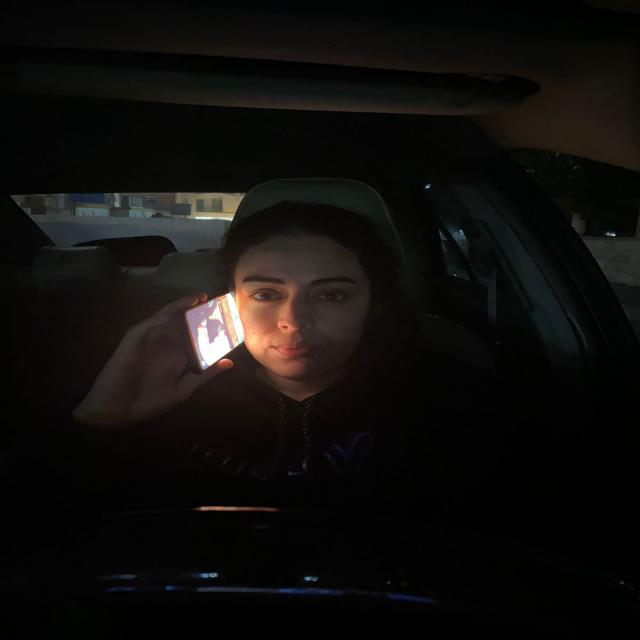mobile: (174, 283, 232, 374)
person: (232, 214, 384, 381)
